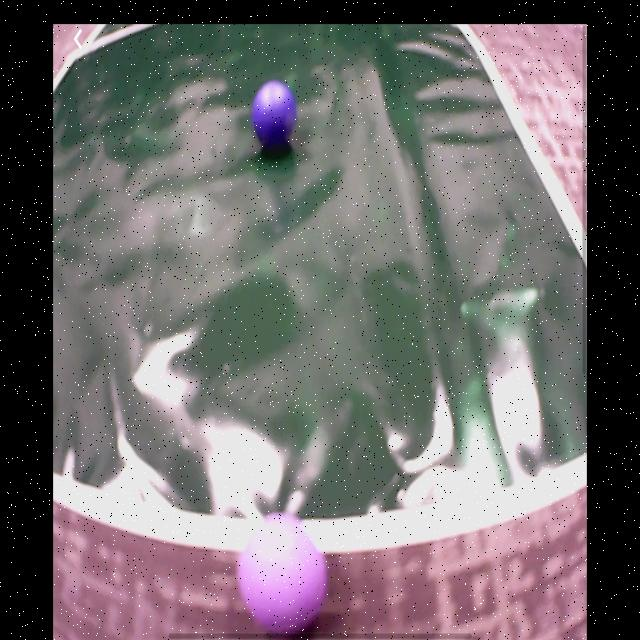ball: (239, 511, 328, 634), (253, 82, 297, 149)
